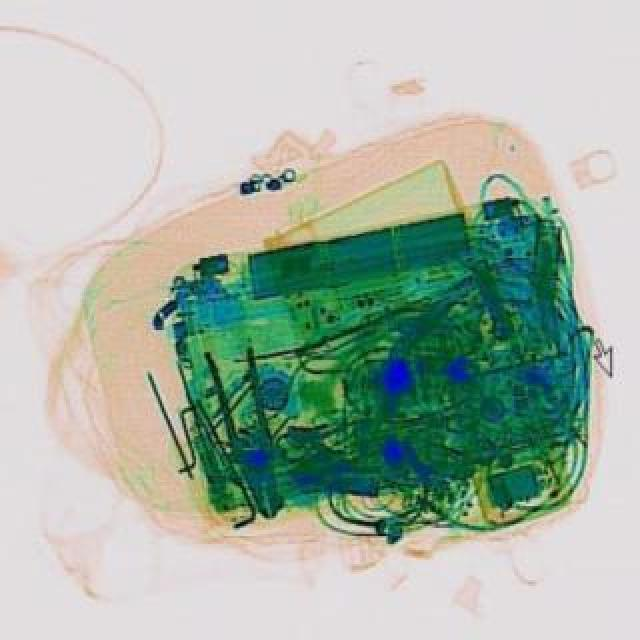wrench: (204, 346, 296, 526)
